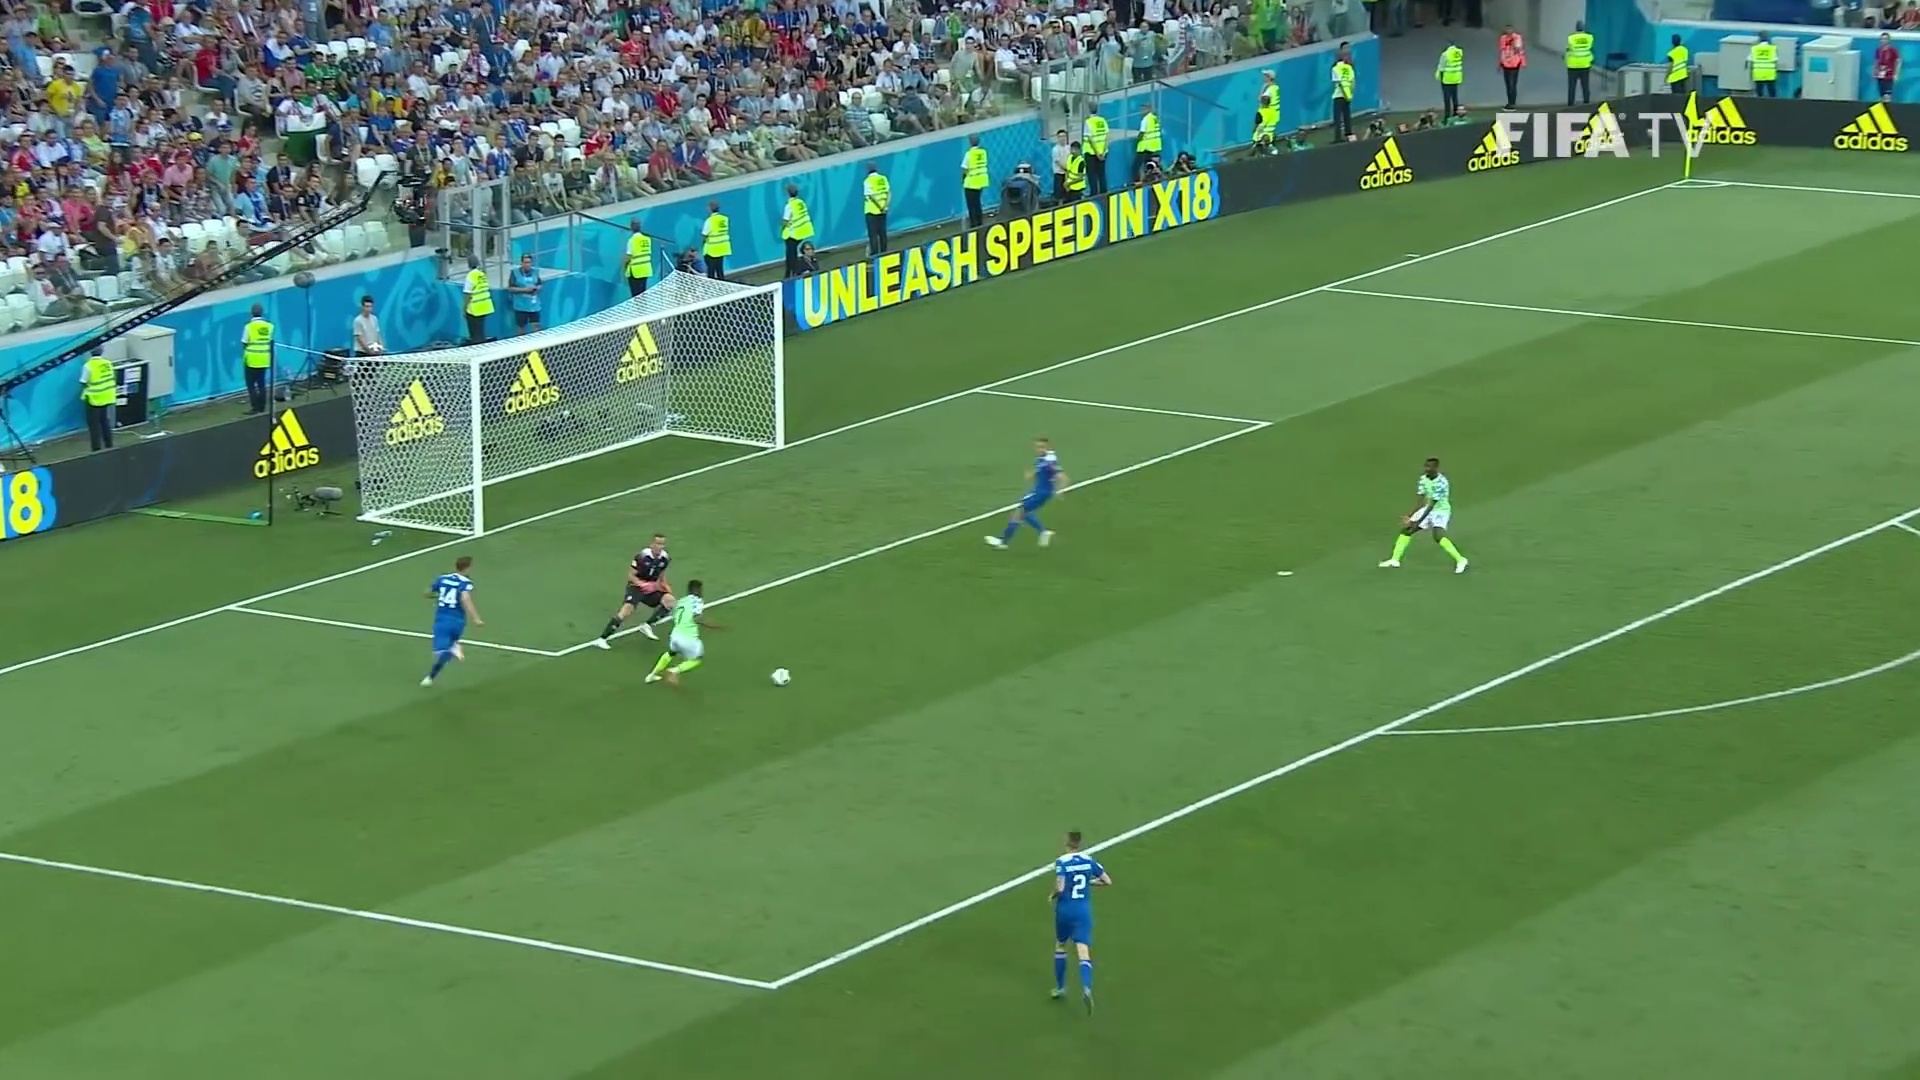ball: (772, 670, 791, 684)
person: (1047, 829, 1106, 1011), (1378, 459, 1469, 575), (984, 440, 1067, 545), (601, 532, 672, 651), (421, 558, 482, 691), (645, 573, 716, 684)
